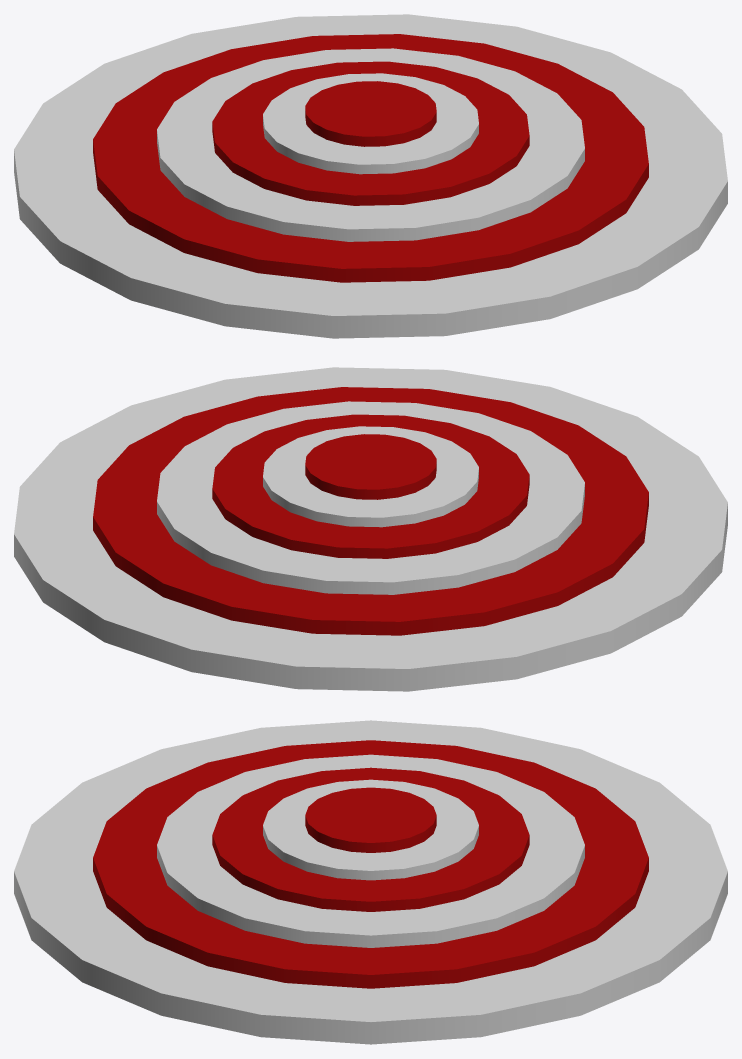
Rendered from target 2.fbx.
The picture shows the model from 3 angles, top to bottom: view 1: azimuth 30°, elevation 25°; view 2: azimuth 150°, elevation 25°; view 3: azimuth 270°, elevation 25°; orthographic projection.
Visible parts, largest first — view 1: pasted__pCylinder1 (×2), pCylinder1, pasted__pasted__pCylinder1, pasted__pasted__pasted__pCylinder1, pasted__pasted__pasted__pasted__pCylinder1; view 2: pasted__pCylinder1 (×2), pCylinder1, pasted__pasted__pCylinder1, pasted__pasted__pasted__pCylinder1, pasted__pasted__pasted__pasted__pCylinder1; view 3: pasted__pCylinder1 (×2), pCylinder1, pasted__pasted__pCylinder1, pasted__pasted__pasted__pCylinder1, pasted__pasted__pasted__pasted__pCylinder1.
Part boxes in pixels (bbox=[...]): pasted__pCylinder1 (×2): bbox=[14, 14, 727, 338]; pCylinder1: bbox=[93, 34, 648, 282]; pasted__pasted__pCylinder1: bbox=[212, 61, 529, 205]; pasted__pasted__pasted__pCylinder1: bbox=[263, 73, 478, 174]; pasted__pasted__pasted__pasted__pCylinder1: bbox=[305, 81, 436, 146]; pasted__pCylinder1 (×2): bbox=[14, 367, 727, 691]; pCylinder1: bbox=[93, 387, 648, 635]; pasted__pasted__pCylinder1: bbox=[212, 414, 529, 558]; pasted__pasted__pasted__pCylinder1: bbox=[263, 426, 478, 527]; pasted__pasted__pasted__pasted__pCylinder1: bbox=[305, 434, 436, 499]; pasted__pCylinder1 (×2): bbox=[14, 720, 727, 1044]; pCylinder1: bbox=[93, 740, 648, 988]; pasted__pasted__pCylinder1: bbox=[212, 767, 529, 911]; pasted__pasted__pasted__pCylinder1: bbox=[263, 779, 478, 880]; pasted__pasted__pasted__pasted__pCylinder1: bbox=[305, 787, 436, 852].
Size of the model in its own units: 10.98 by 1.33 by 10.98.
